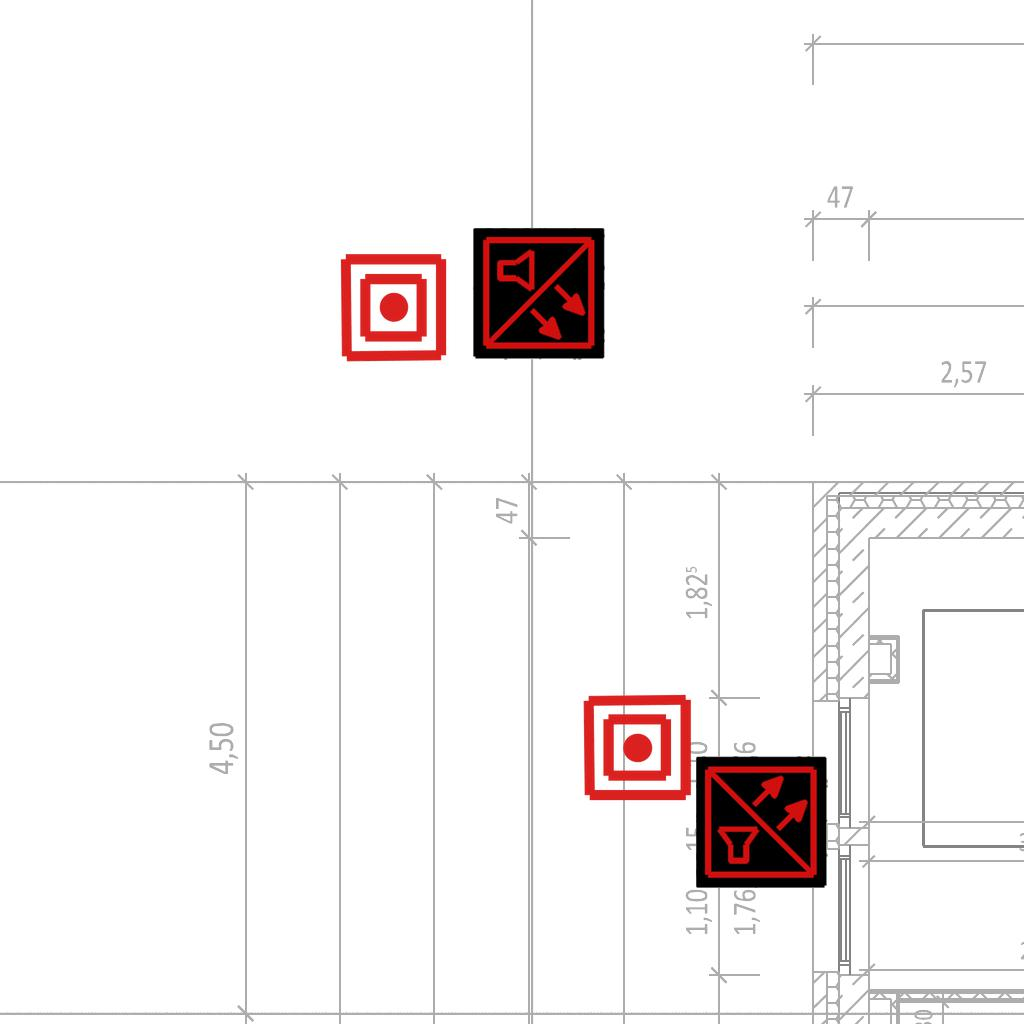NAM-Nichtautomatischer_Melder: (337, 251, 450, 364), (581, 691, 694, 804)
OKW_Multisensormelder_(Kombination_optischer_Rauch-Kahlenmonoxid_Waerme-Melder): (696, 756, 828, 888), (473, 228, 605, 360)
